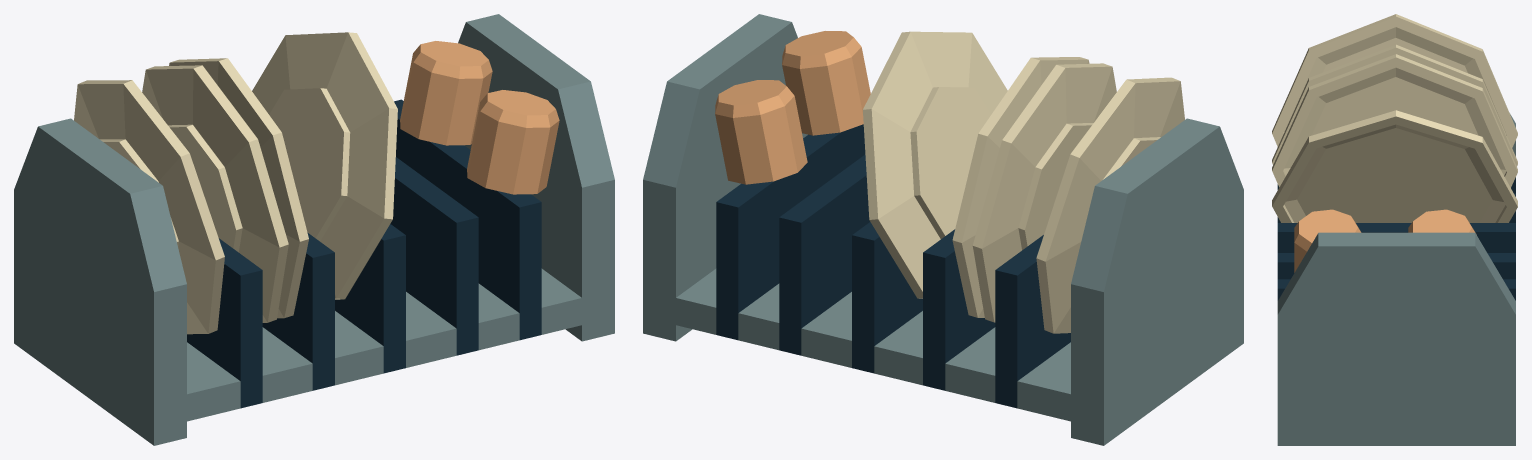
File: platuhan.fbx
3 renders of one model, left to right at view 1: azimuth 30°, elevation 25°; view 2: azimuth 150°, elevation 25°; view 3: azimuth 270°, elevation 25°, orthographic. The views are drawn at different scales.
Parts seen in each view (by area): view 1: platuhan; view 2: platuhan; view 3: platuhan.
Boxes of the visible parts, bbox=[...] form: platuhan: bbox=[14, 14, 614, 445]; platuhan: bbox=[643, 14, 1243, 445]; platuhan: bbox=[1272, 14, 1517, 445].
Bounding box in the file's own units: 286 × 180 × 155.
